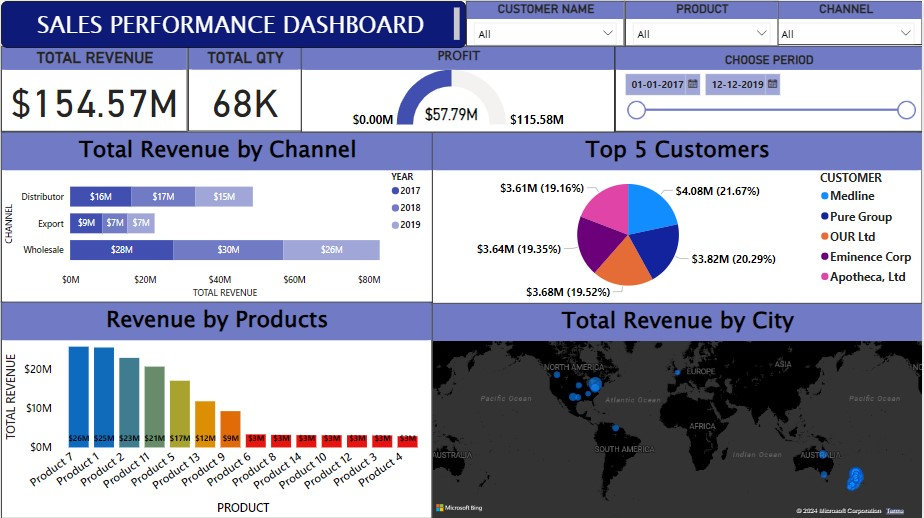

Layout of this report page (visuals, bound fields, positions):
{"tool":"powerbi","page":{"name":"Page 1","canvas":[1280,720],"ordinal":0},"visuals":[{"type":"barChart","title":"Total Revenue by Channel","fields":{"Category":["Sales_Data.Channel"],"Y":["Sum(Sales_Data.Total Revenue)"],"Series":["Sales_Data.OrderDate.Variation.Date Hierarchy.Year"]},"box":[0,181.9,600,237.3],"z":0},{"type":"columnChart","title":"Revenue by Products","fields":{"Category":["Products_Data.Product Name"],"Y":["Sum(Sales_Data.Total Revenue)"]},"box":[0,418.6,599,301],"z":1000},{"type":"pieChart","title":"Top 5 Customers","fields":{"Category":["Customer_Data.Customer Names"],"Y":["Sum(Sales_Data.Total Revenue)"]},"box":[598.8,181.9,680.7,238.6],"z":2000},{"type":"map","title":"Total Revenue by City","fields":{"Category":["Regions_Table.City"],"Size":["Sum(Sales_Data.Total Revenue)"]},"box":[598.8,419.3,680.7,300],"z":3000},{"type":"card","title":"TOTAL QTY","fields":{"Values":["Sum(Sales_Data.Order Quantity)"]},"box":[259,61.4,157.8,120.5],"z":4000},{"type":"card","title":"TOTAL REVENUE","fields":{"Values":["Sum(Sales_Data.Total Revenue)"]},"box":[0,62.7,259,119.3],"z":5000},{"type":"gauge","title":"PROFIT","fields":{"Y":["Sum(Sales_Data.Profit)"]},"box":[416.9,62.7,436.1,120],"z":6000},{"type":"slicer","title":"CHOOSE PERIOD","fields":{"Values":["Sales_Data.OrderDate"]},"box":[853,62.7,426.5,119.3],"z":7000},{"type":"slicer","title":"CHANNEL","fields":{"Values":["Sales_Data.Channel"]},"box":[1066.3,0,213.3,61.4],"z":8000},{"type":"slicer","title":"CUSTOMER NAME","fields":{"Values":["Customer_Data.Customer Names"]},"box":[645.8,0,220.5,62.7],"z":9000},{"type":"slicer","title":"PRODUCT","fields":{"Values":["Products_Data.Product Name"]},"box":[866.3,0,213.3,62.7],"z":10000},{"type":"textbox","box":[0,0,645.8,65.1],"z":11000}]}

Visuals, with their boxes in screenshot pixels (x1, y1, x2, y2), scaled from the page's 1280x720 canvas onto the 924x518 screenshot:
"Total Revenue by Channel" barChart: [0, 131, 433, 302]
"Revenue by Products" columnChart: [0, 301, 432, 517]
"Top 5 Customers" pieChart: [432, 131, 923, 303]
"Total Revenue by City" map: [432, 302, 923, 517]
"TOTAL QTY" card: [187, 44, 301, 131]
"TOTAL REVENUE" card: [0, 45, 187, 131]
"PROFIT" gauge: [301, 45, 616, 131]
"CHOOSE PERIOD" slicer: [616, 45, 923, 131]
"CHANNEL" slicer: [770, 0, 923, 44]
"CUSTOMER NAME" slicer: [466, 0, 625, 45]
"PRODUCT" slicer: [625, 0, 779, 45]
textbox: [0, 0, 466, 47]
